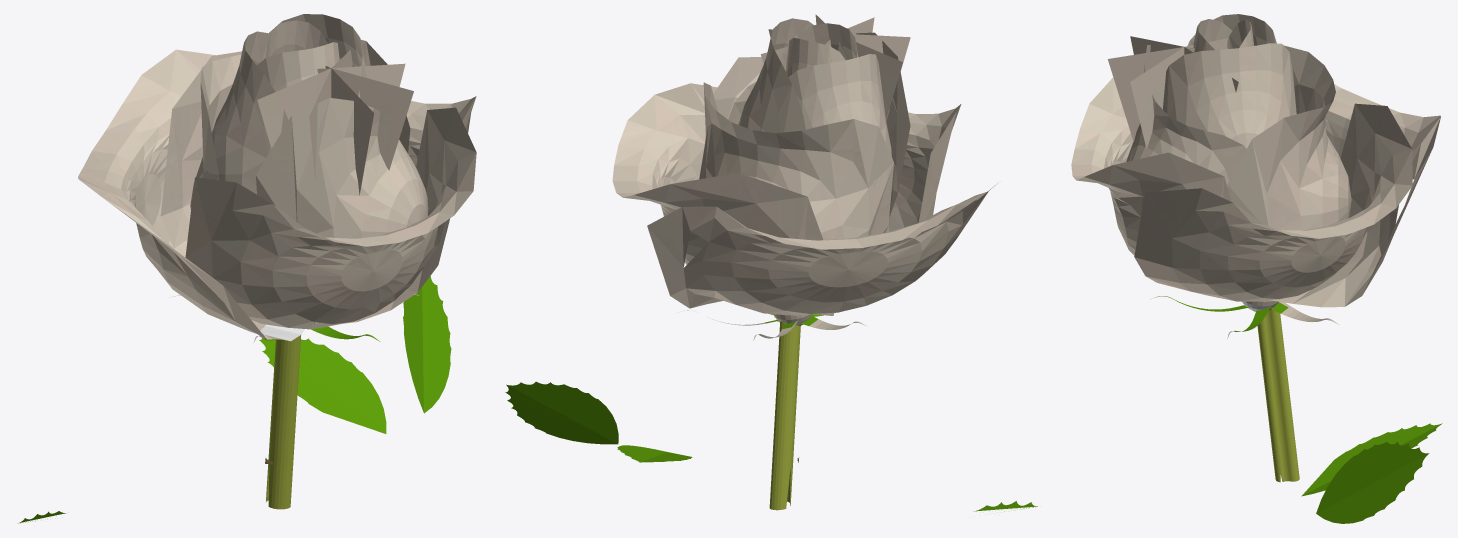
The picture shows the model from 3 angles, left to right: view 1: azimuth 30°, elevation 25°; view 2: azimuth 150°, elevation 25°; view 3: azimuth 270°, elevation 25°; orthographic projection. The views are drawn at different scales.
Visible parts, largest first — view 1: 17fe1a8c; view 2: 17fe1a8c; view 3: 17fe1a8c.
Part boxes in pixels (left/top/right/bottom): 17fe1a8c: left=18, top=14, right=476, bottom=523; 17fe1a8c: left=505, top=14, right=1037, bottom=511; 17fe1a8c: left=1071, top=14, right=1442, bottom=523.
Size of the model in its own units: 0.1711 by 0.1612 by 0.1212.
6 materials, 3 textured.
